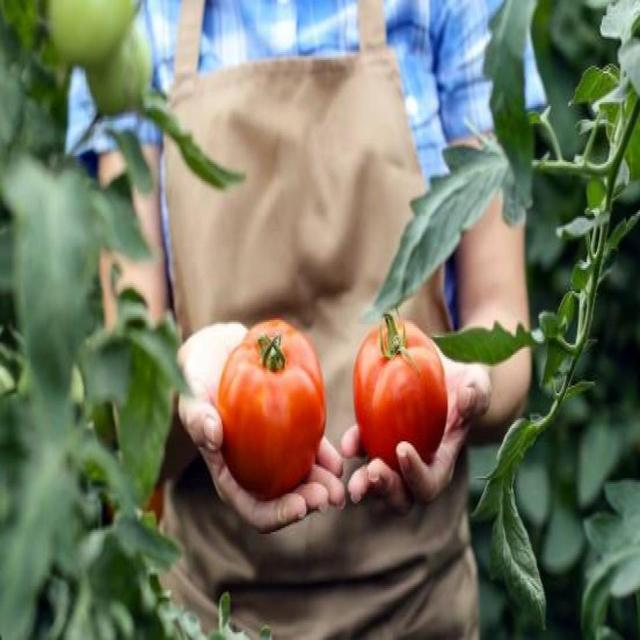Healthy Fruit: (72, 103, 270, 268)
